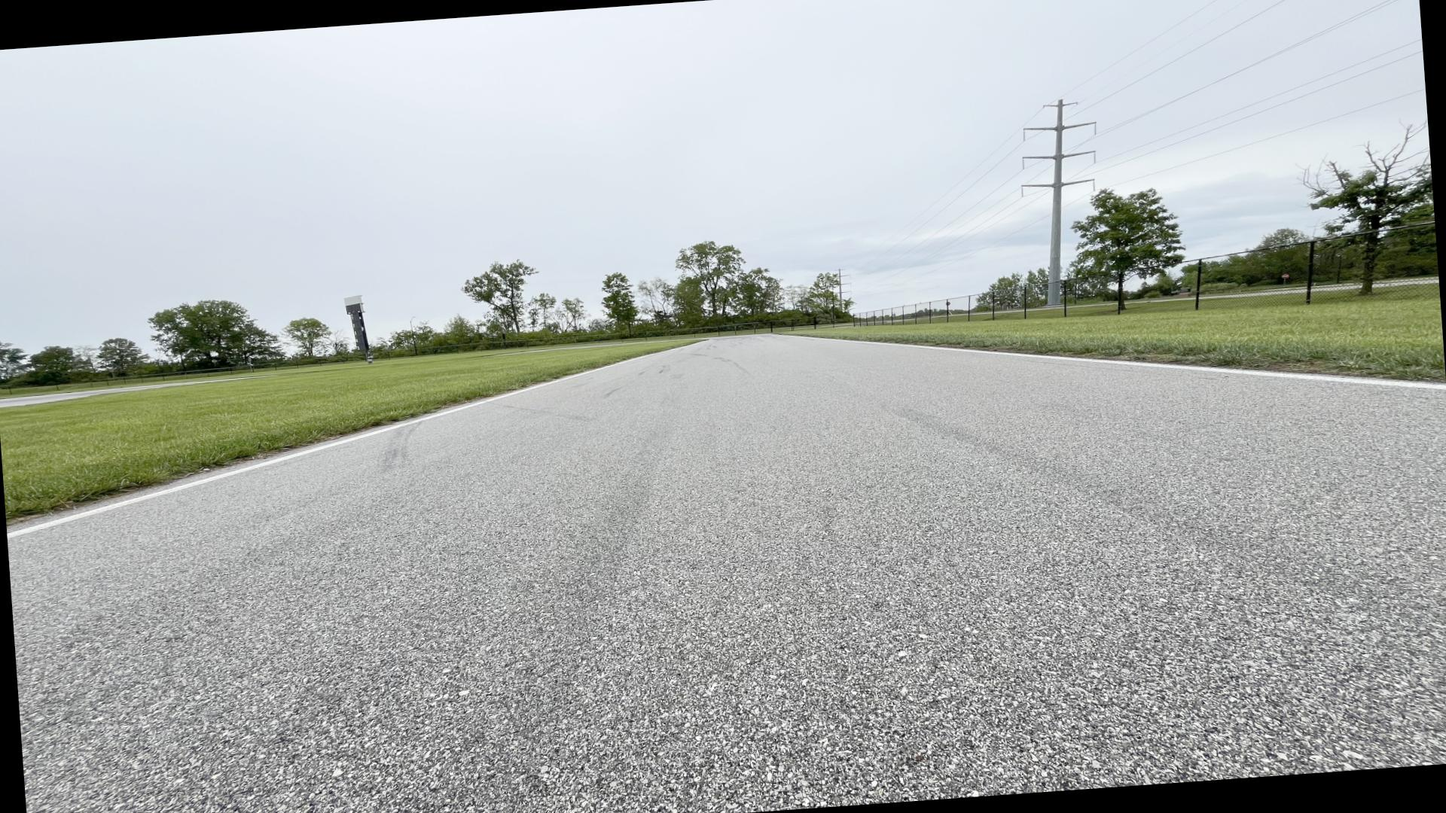white-line: (7, 340, 710, 540), (773, 335, 1445, 391)
